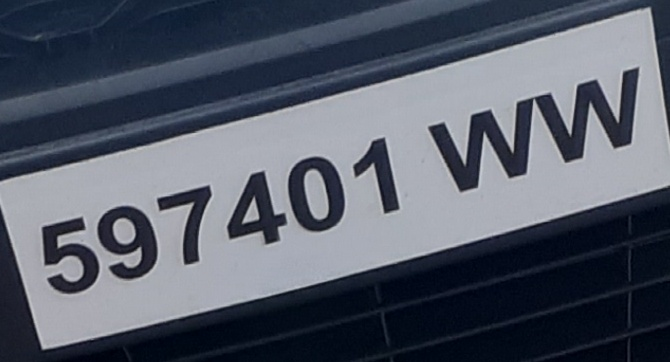0: (286, 155, 347, 236)
1: (348, 136, 405, 218)
4: (221, 171, 288, 249)
5: (38, 215, 100, 294)
7: (156, 184, 215, 267)
9: (95, 207, 160, 283)
w: (427, 94, 535, 195), (536, 66, 646, 165)
